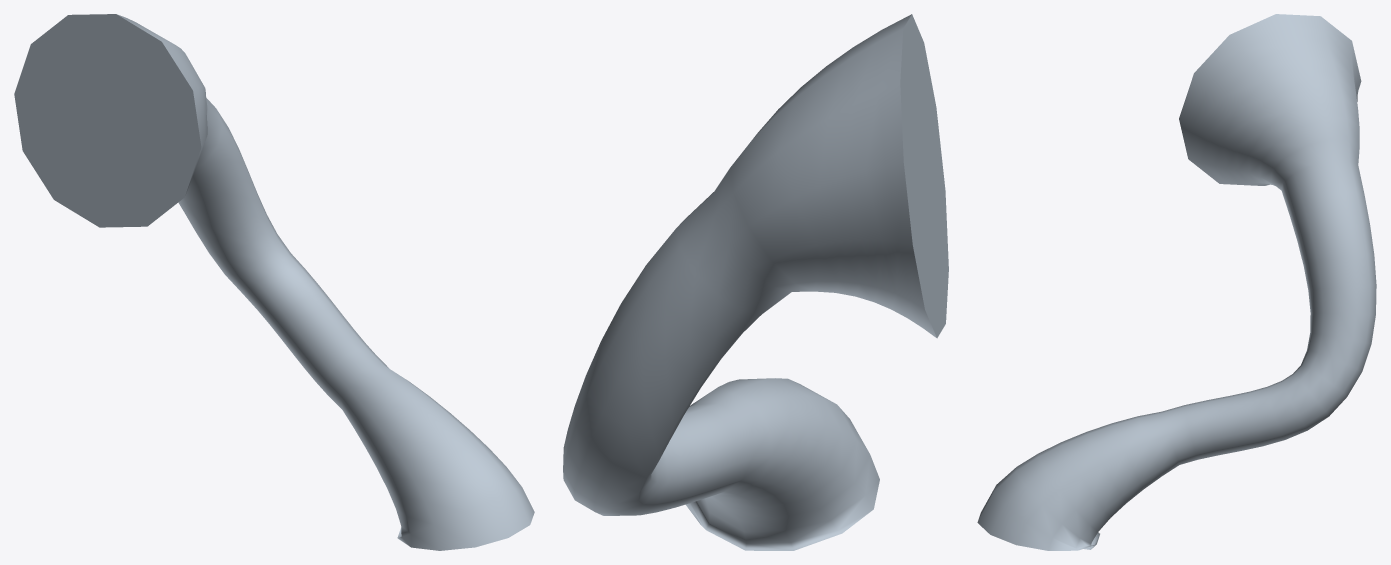
The model's file is anterior-cruciate-ligament-r.glb.
The picture shows the model from 3 angles, left to right: view 1: azimuth 30°, elevation 25°; view 2: azimuth 150°, elevation 25°; view 3: azimuth 270°, elevation 25°; orthographic projection. The views are drawn at different scales.
Parts seen in each view (by area): view 1: Anterior cruciate ligament.r; view 2: Anterior cruciate ligament.r; view 3: Anterior cruciate ligament.r.
Boxes of the visible parts, x1,y1,x2,y2 form: Anterior cruciate ligament.r: [14, 14, 534, 550]; Anterior cruciate ligament.r: [563, 14, 948, 550]; Anterior cruciate ligament.r: [977, 14, 1376, 550].
Size of the model in its own units: 0.0212 by 0.0297 by 0.0246.
